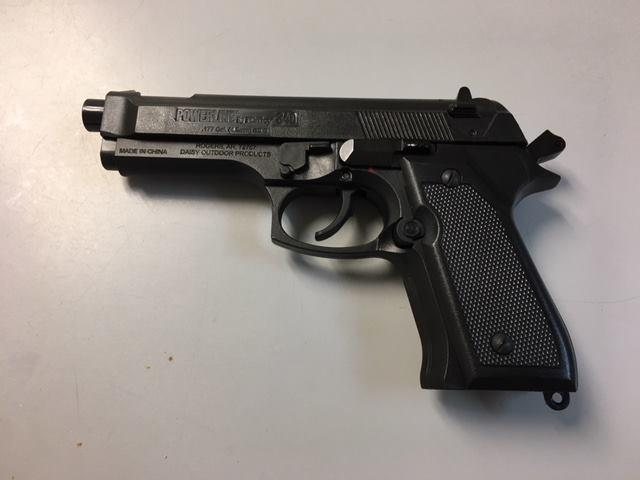pistol: (76, 77, 581, 407)
